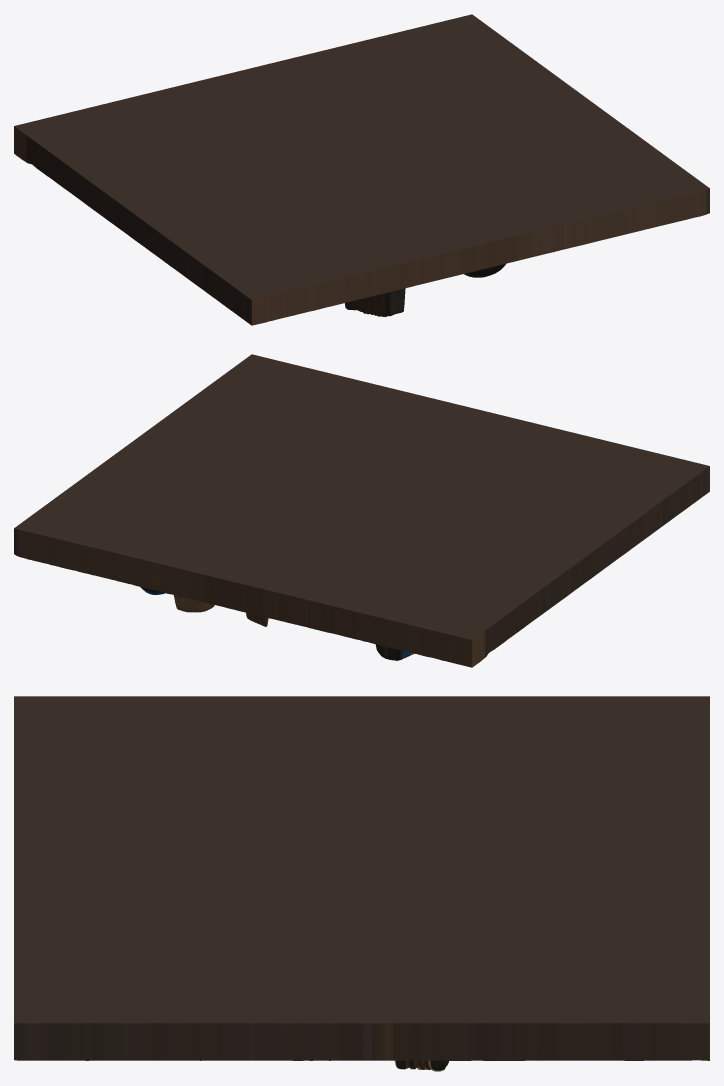
File: three-musicians.glb
3 views of the same model, one above another, from view 1: azimuth 30°, elevation 25°; view 2: azimuth 150°, elevation 25°; view 3: azimuth 270°, elevation 25° (orthographic). The views are drawn at different scales.
Visible parts, largest first — view 1: Picasso Three Musicians 2006.stl; view 2: Picasso Three Musicians 2006.stl; view 3: Picasso Three Musicians 2006.stl.
Boxes of the visible parts, x1,y1,x2,y2 form: Picasso Three Musicians 2006.stl: [14, 14, 709, 325]; Picasso Three Musicians 2006.stl: [14, 354, 709, 667]; Picasso Three Musicians 2006.stl: [14, 696, 709, 1071].
Bounding box in the file's own units: 100 × 16 × 89.92.
1 material, 1 textured.
